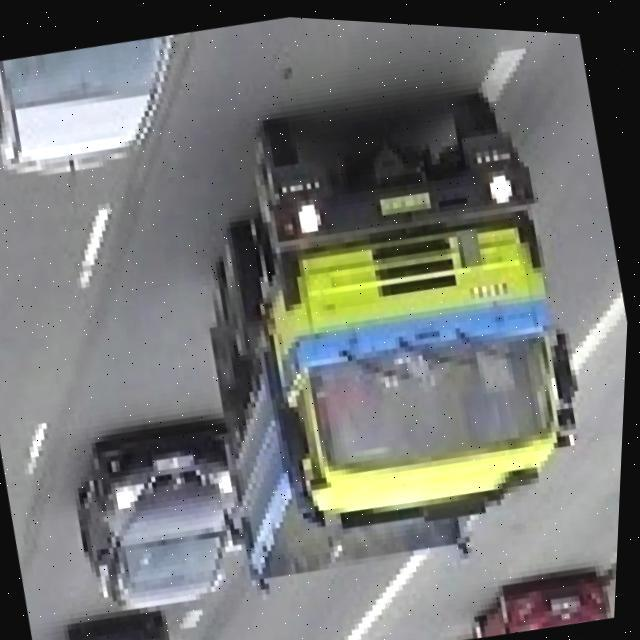truck: (156, 68, 620, 610)
